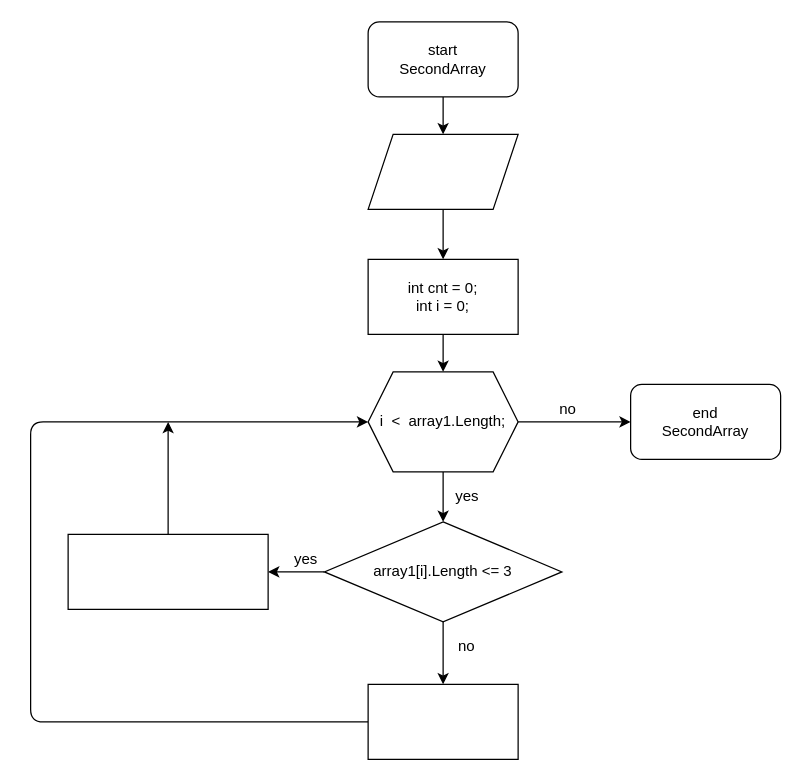
Image size: 803x781. Some labels were removed from this diagram. The centre of each missing label's shape, as x and y in pixels:
array2[cnt] = array1[i]; cnt++;: the point at 167,571
i++: the point at 442,721
string[] array1, string[] array2: the point at 442,171
